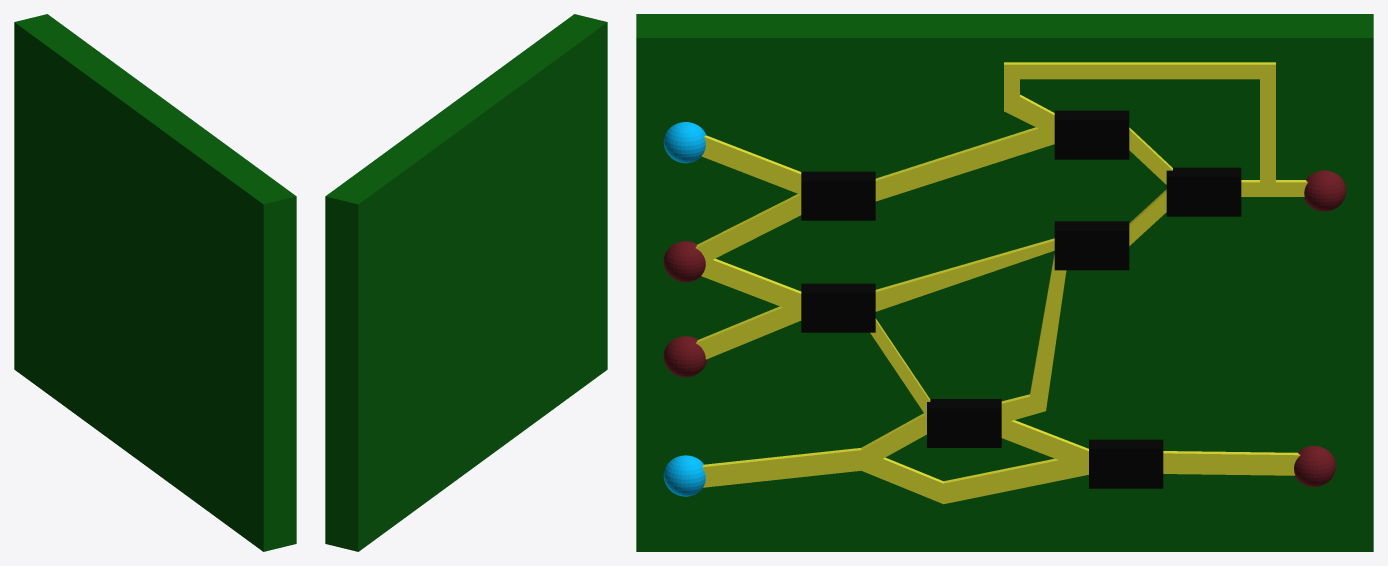
The model's file is pcd.fbx.
The picture shows the model from 3 angles, left to right: view 1: azimuth 30°, elevation 25°; view 2: azimuth 150°, elevation 25°; view 3: azimuth 270°, elevation 25°; orthographic projection. The views are drawn at different scales.
Parts seen in each view (by area): view 1: Cube; view 2: Cube; view 3: Cube, Plane, Cube.005, Cube.006, Cube.007, Cube.001, Cube.002, Cube.004, Cube.003, Sphere, Sphere.005, Sphere.003 (+3 smaller).
Boxes of the visible parts, x1,y1,x2,y2 form: Cube: (14,14,296,551); Cube: (325,14,607,551); Cube: (636,14,1373,551); Plane: (695,62,1307,504); Cube.005: (1054,221,1129,270); Cube.006: (1054,110,1129,159); Cube.007: (1166,167,1241,216); Cube.001: (801,171,875,220); Cube.002: (801,283,875,332); Cube.004: (1089,439,1163,488); Cube.003: (927,399,1001,447); Sphere: (663,122,706,163); Sphere.005: (1303,170,1346,211); Sphere.003: (663,455,705,496).
Bounding box in the file's own units: 140 × 1000 × 1300.
